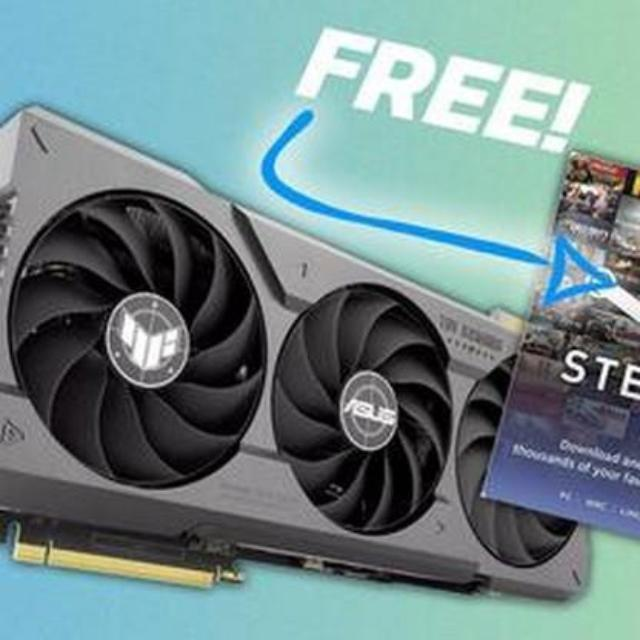GPU: (0, 130, 598, 636)
